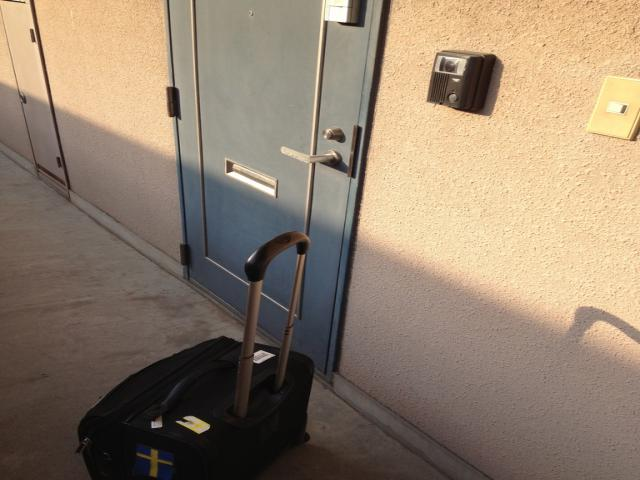Door-handle: (278, 145, 342, 166)
